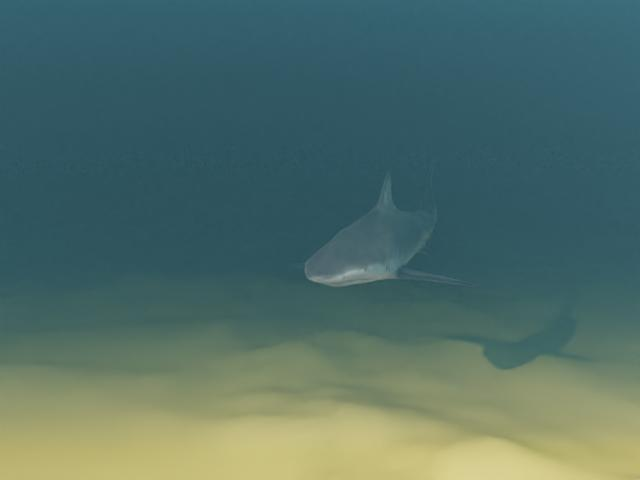Carribean Shark.001: (291, 158, 480, 286)
